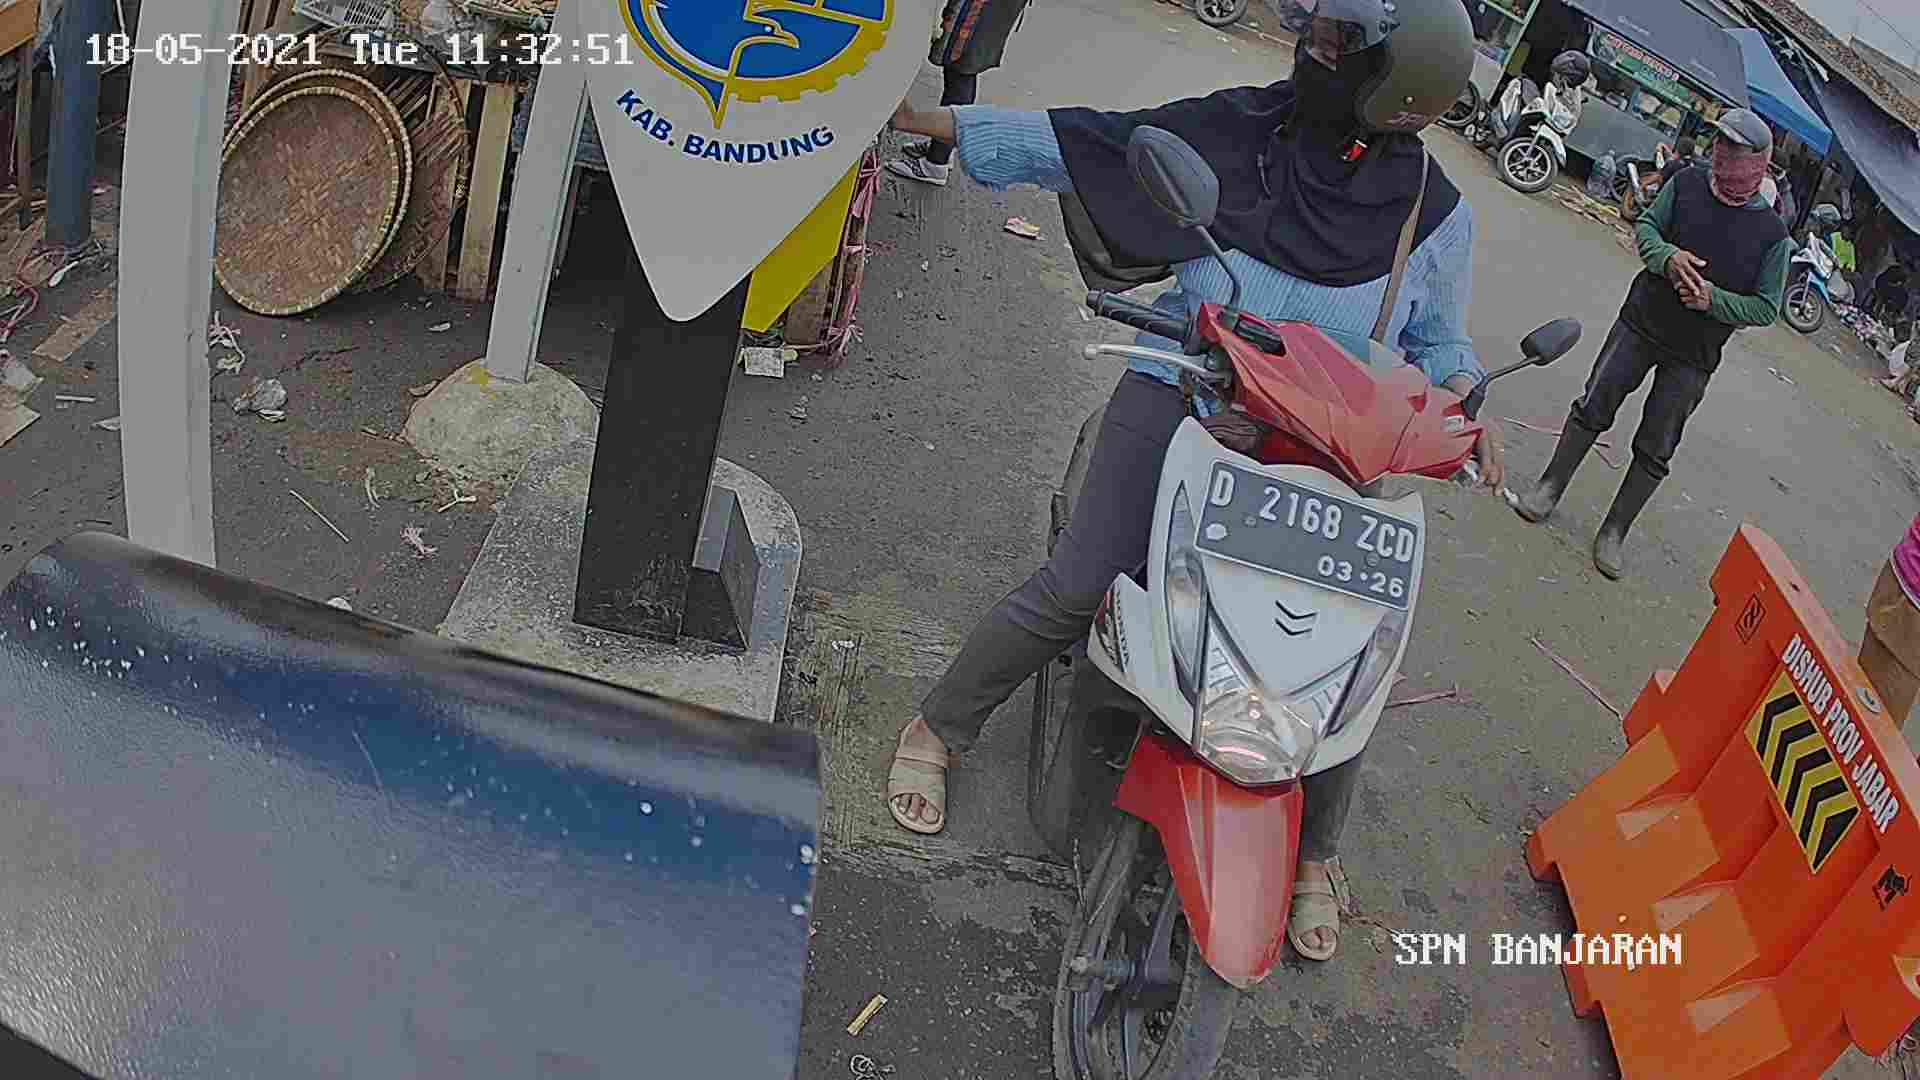motor: (1039, 315, 1399, 1072)
